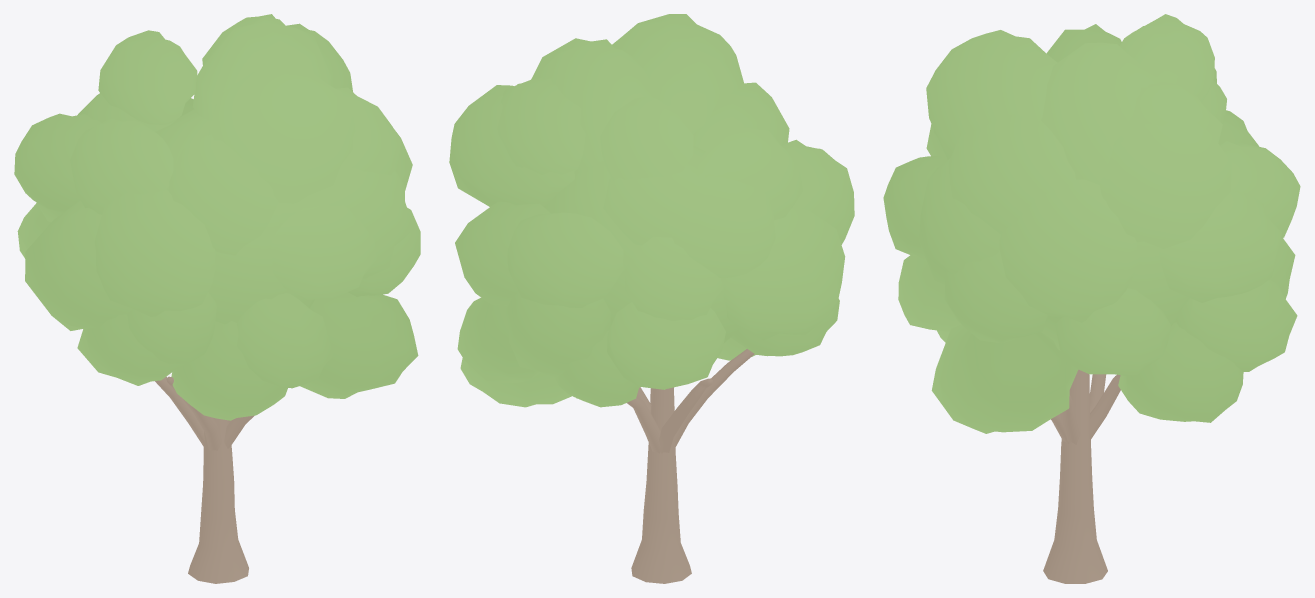
The model's file is Blender_Maple_2.glb.
The picture shows the model from 3 angles, left to right: view 1: azimuth 30°, elevation 25°; view 2: azimuth 150°, elevation 25°; view 3: azimuth 270°, elevation 25°; orthographic projection. The views are drawn at different scales.
Visible parts, largest first — view 1: Blender_Maple_2; view 2: Blender_Maple_2; view 3: Blender_Maple_2.
Boxes of the visible parts, bbox=[...] form: Blender_Maple_2: bbox=[14, 14, 420, 583]; Blender_Maple_2: bbox=[449, 14, 854, 583]; Blender_Maple_2: bbox=[883, 14, 1300, 583].
Bounding box in the file's own units: 12.74 × 17.99 × 12.31.
